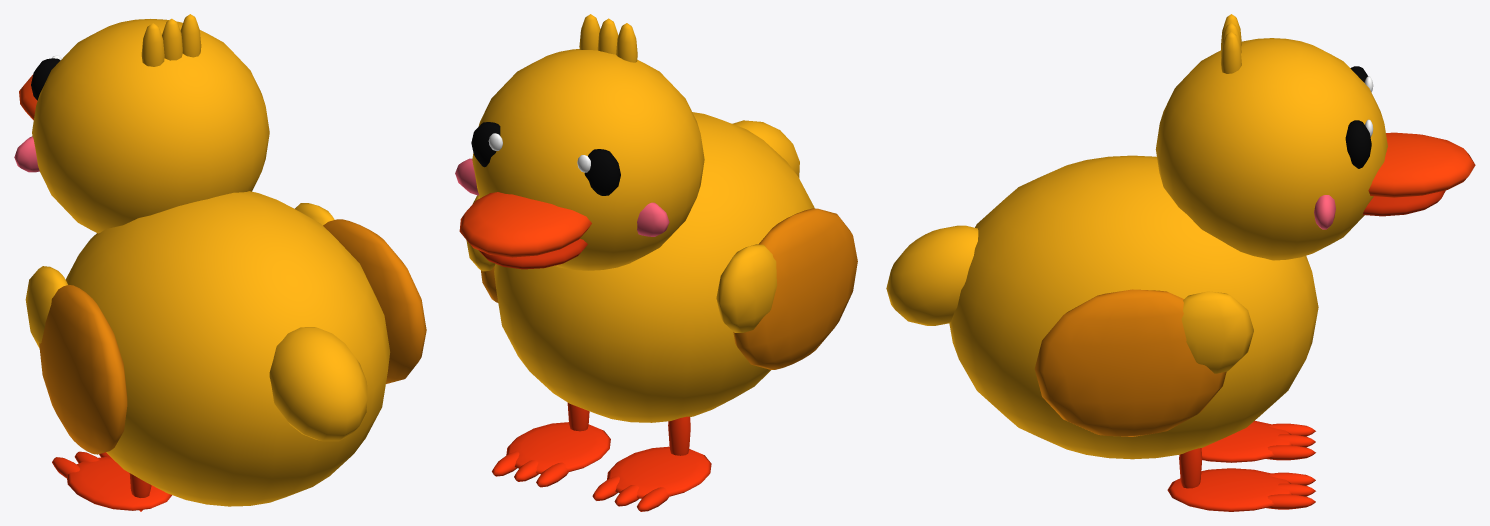
Rendered from Duckling.obj.
3 renders of one model, left to right at view 1: azimuth 30°, elevation 25°; view 2: azimuth 150°, elevation 25°; view 3: azimuth 270°, elevation 25°, orthographic. The views are drawn at different scales.
Visible parts, largest first — view 1: Duckling; view 2: Duckling; view 3: Duckling.
Boxes of the visible parts, left/top/right/bottom form: Duckling: left=14, top=14, right=426, bottom=511; Duckling: left=455, top=14, right=857, bottom=511; Duckling: left=886, top=14, right=1475, bottom=511.
Bounding box in the file's own units: 3.19 × 4.32 × 5.07.
